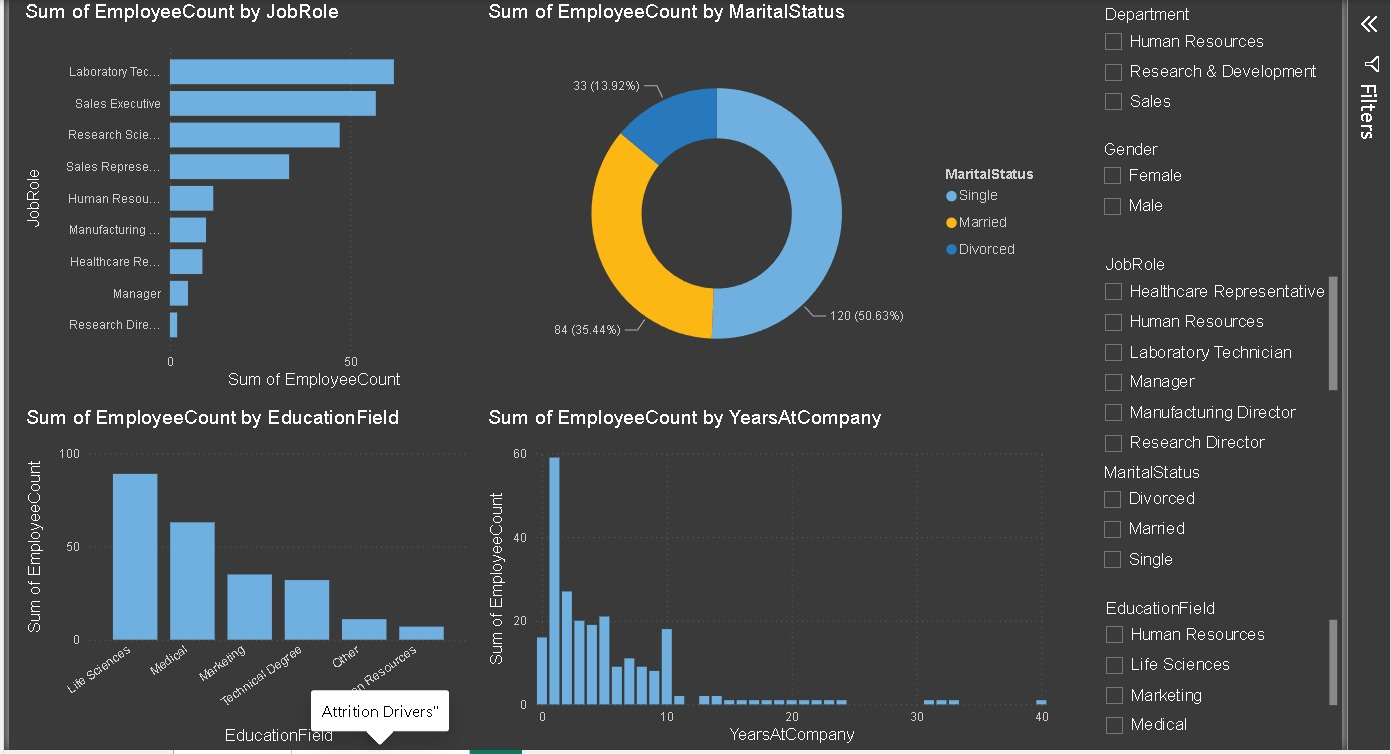

The dashboard page shown, as its layout file describes it:
{"tool":"powerbi","page":{"name":"Attrition Drivers\"","canvas":[1280,720],"ordinal":1},"visuals":[{"type":"clusteredBarChart","fields":{"Category":["hr mini clean data.JobRole"],"Y":["Sum(hr mini clean data.EmployeeCount)"]},"box":[10.6,0,433.6,378.8],"z":0},{"type":"clusteredColumnChart","fields":{"Y":["Sum(hr mini clean data.EmployeeCount)"],"Category":["hr mini clean data.EducationField"]},"box":[11,389,434,331],"z":1000},{"type":"donutChart","fields":{"Category":["hr mini clean data.MaritalStatus"],"Y":["Sum(hr mini clean data.EmployeeCount)"]},"box":[454.7,0,549.3,378.3],"z":2000},{"type":"columnChart","fields":{"Category":["hr mini clean data.YearsAtCompany"],"Y":["Sum(hr mini clean data.EmployeeCount)"]},"box":[454.9,389.5,549.2,330.1],"z":3000},{"type":"slicer","fields":{"Values":["hr mini clean data.Department"]},"box":[1039.1,0,240.4,129.3],"z":4000},{"type":"slicer","fields":{"Values":["hr mini clean data.Gender"]},"box":[1037.8,129.6,241,110.1],"z":5000},{"type":"slicer","fields":{"Values":["hr mini clean data.JobRole"]},"box":[1039.1,239.7,241,199.5],"z":6000},{"type":"slicer","fields":{"Values":["hr mini clean data.EducationField"]},"box":[1040.4,570.1,239.7,150.3],"z":7000},{"type":"slicer","fields":{"Values":["hr mini clean data.MaritalStatus"]},"box":[1037.8,439.2,242.3,130.9],"z":8000}]}

Visuals, with their boxes on the page's 1280x720 design canvas (x1, y1, x2, y2). These are canvas units, not pixel positions in the 1391x754 screenshot, which may show the page scaled, cropped or inside an application window:
clusteredBarChart - hr mini clean data.JobRole x Sum(hr mini clean data.EmployeeCount): select_region(11, 0, 444, 379)
clusteredColumnChart - Sum(hr mini clean data.EmployeeCount) x hr mini clean data.EducationField: select_region(11, 389, 445, 720)
donutChart - hr mini clean data.MaritalStatus x Sum(hr mini clean data.EmployeeCount): select_region(455, 0, 1004, 378)
columnChart - hr mini clean data.YearsAtCompany x Sum(hr mini clean data.EmployeeCount): select_region(455, 390, 1004, 720)
slicer - hr mini clean data.Department: select_region(1039, 0, 1280, 129)
slicer - hr mini clean data.Gender: select_region(1038, 130, 1279, 240)
slicer - hr mini clean data.JobRole: select_region(1039, 240, 1280, 439)
slicer - hr mini clean data.EducationField: select_region(1040, 570, 1280, 720)
slicer - hr mini clean data.MaritalStatus: select_region(1038, 439, 1280, 570)
